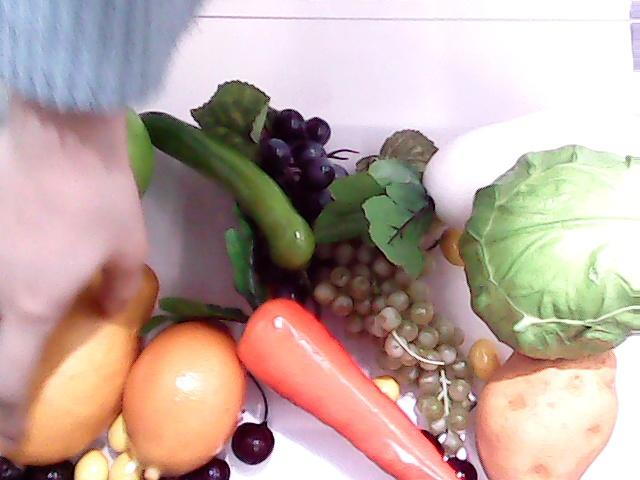apple: (118, 100, 162, 204)
cabbage: (471, 134, 639, 364)
carrot: (144, 206, 468, 480)
grape: (308, 222, 468, 470), (235, 100, 342, 304)
lemon: (119, 310, 248, 480)
mango: (0, 249, 160, 471)
pepper: (136, 107, 324, 266)
potato: (474, 342, 618, 480)
radish: (315, 104, 640, 280)
